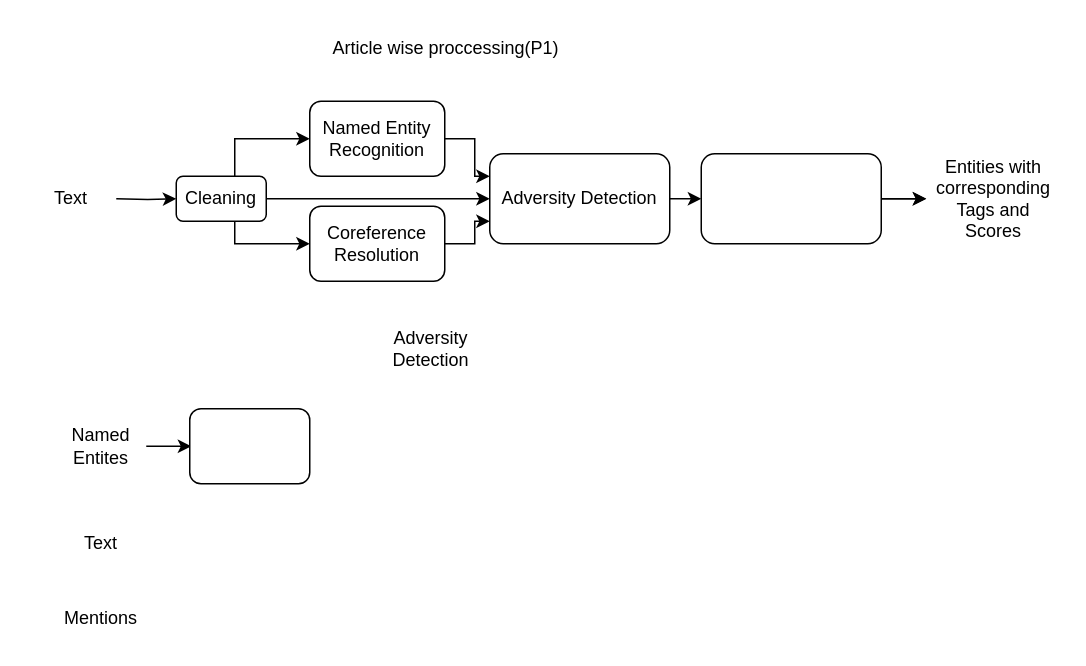
Some shapes in this 1086 by 666 pixel diagram are drawn without their labels. The centre of each missing label's shape, as x and y in pixels:
"get persons and organizations" belongs at point (249, 445).
"Tagging" belongs at point (790, 198).
